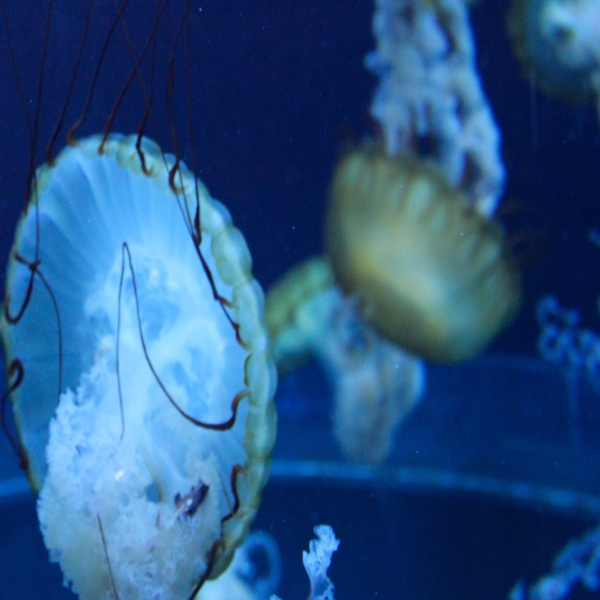Jellyfish: (0, 0, 278, 599), (326, 0, 526, 366), (264, 251, 428, 459), (502, 0, 599, 105)
